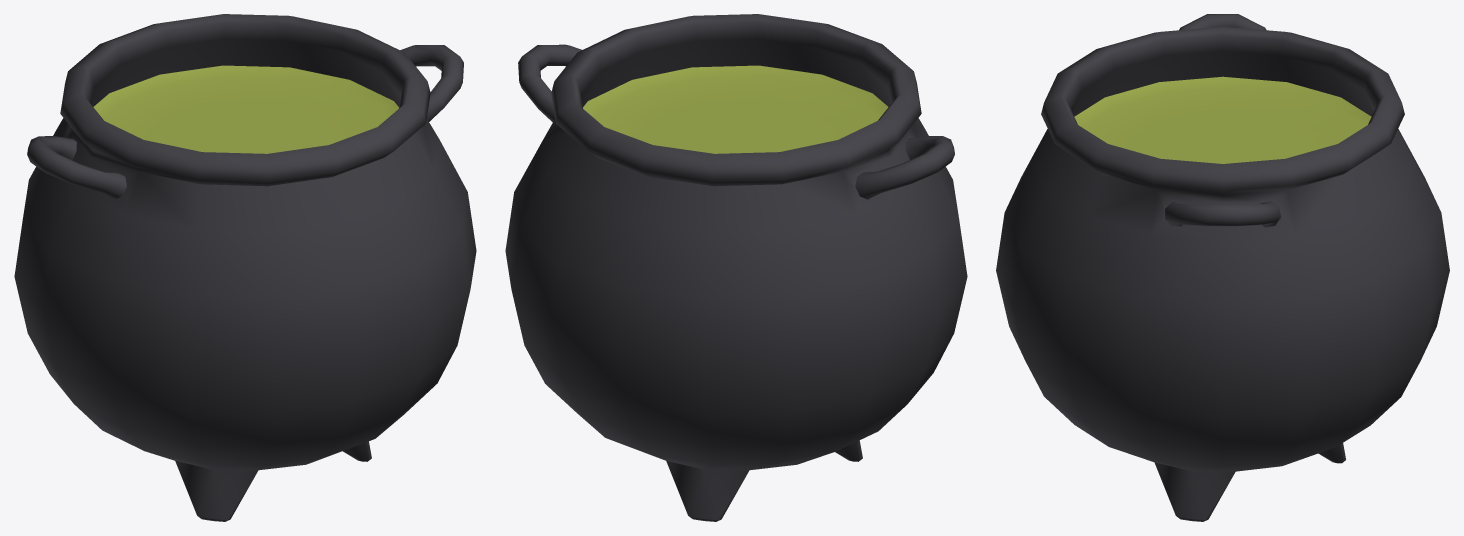
File: Cauldron_2.fbx
The picture shows the model from 3 angles, left to right: view 1: azimuth 30°, elevation 25°; view 2: azimuth 150°, elevation 25°; view 3: azimuth 270°, elevation 25°; orthographic projection. The views are drawn at different scales.
Parts seen in each view (by area): view 1: Cauldron_2, Liquid; view 2: Cauldron_2, Liquid; view 3: Cauldron_2, Liquid.
Boxes of the visible parts, bbox=[...] form: Cauldron_2: bbox=[14, 14, 476, 521]; Liquid: bbox=[93, 65, 398, 153]; Cauldron_2: bbox=[505, 14, 967, 521]; Liquid: bbox=[583, 65, 888, 153]; Cauldron_2: bbox=[996, 14, 1449, 521]; Liquid: bbox=[1074, 76, 1371, 163].
Size of the model in its own units: 23.52 by 20.62 by 22.54.
